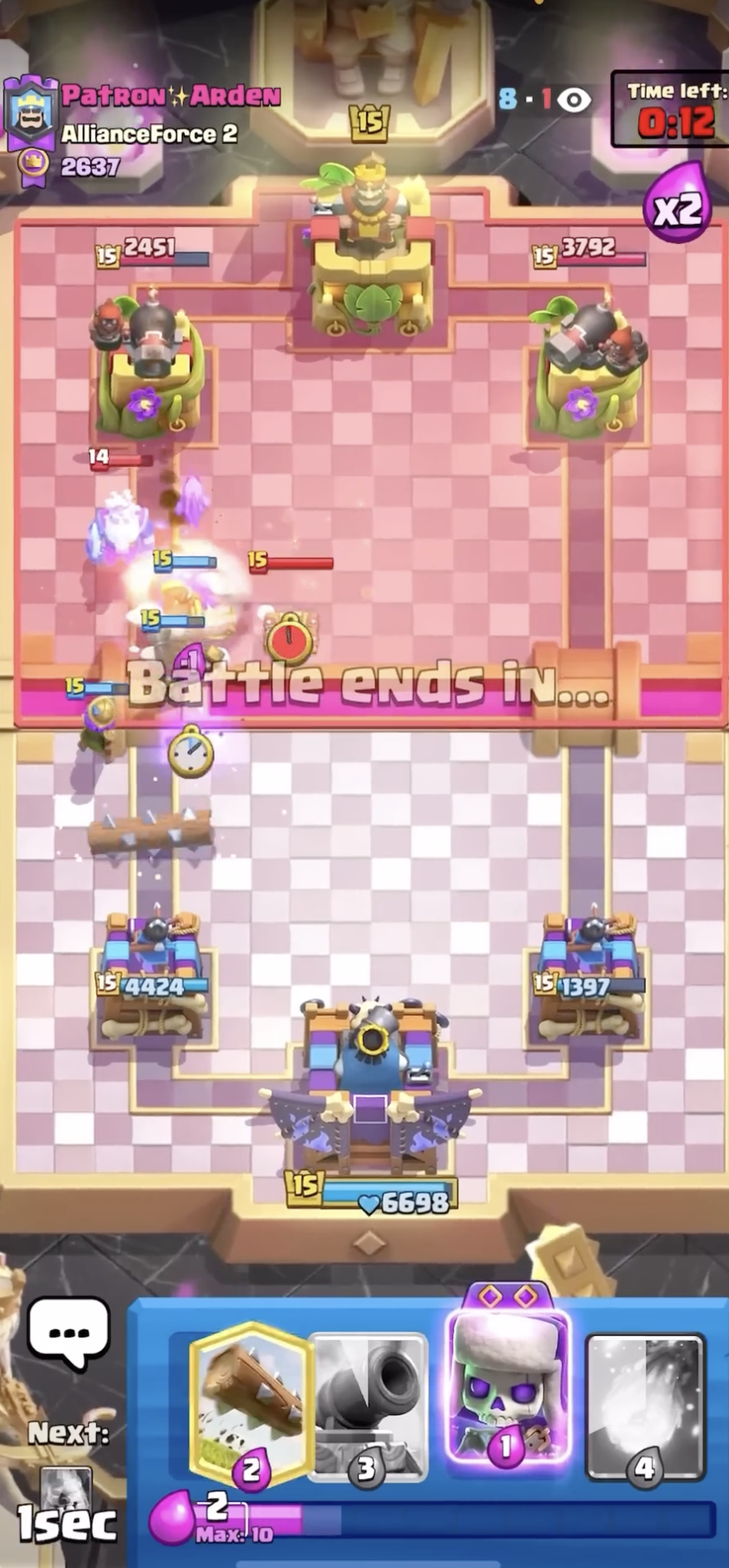hog_rider: (152, 548, 239, 648)
log: (81, 795, 228, 850)
musketeer: (62, 669, 137, 772)
